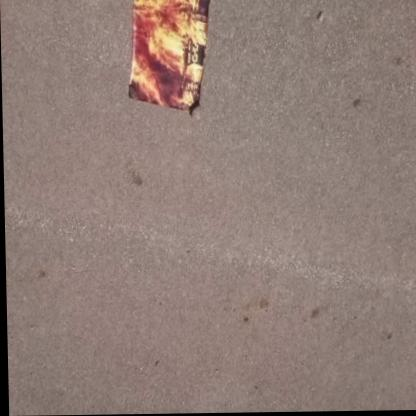fire-poster: (125, 0, 215, 119)
